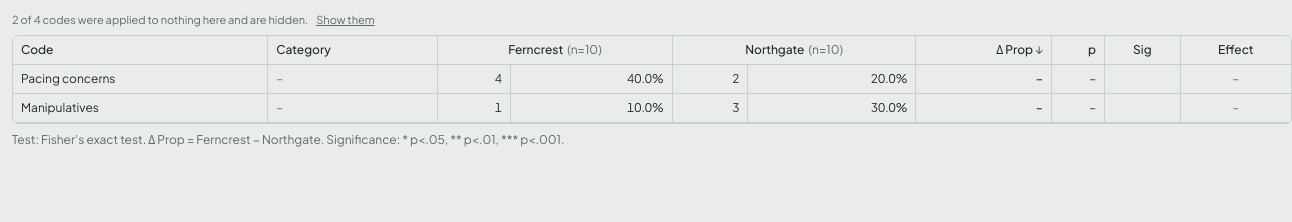
Scenario: QualComparisonTable — unused codes › brings them back on request, and says so
Click the button "Show them" at x=345, y=20, box [316,12,375,28]
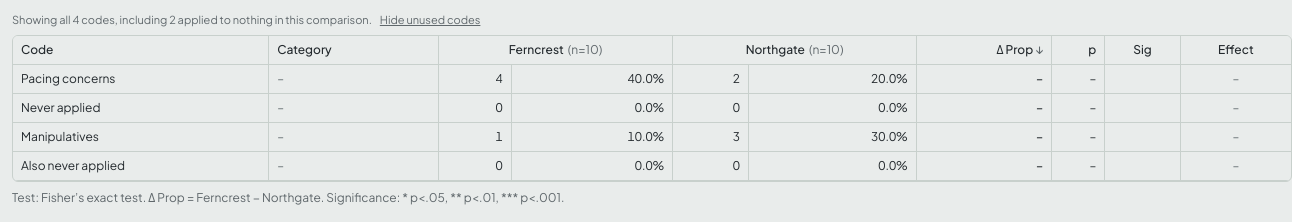
Now the text "Never applied" is shown, box [13,93,269,122]
Now the text "Also never applied" is shown, box [13,151,269,180]
Now the text "Showing all 4 codes, including 2 applied to nothing" is shown, box [12,13,372,26]
// …and back again.
Click the button "Hide unused codes" at x=430, y=20, box [380,12,480,28]
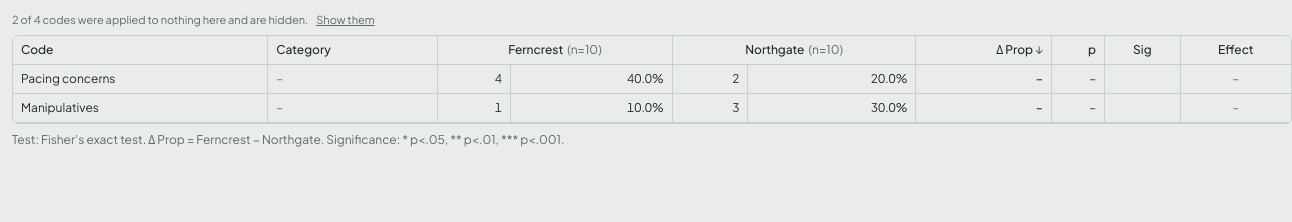
Now the text "Never applied" is gone
